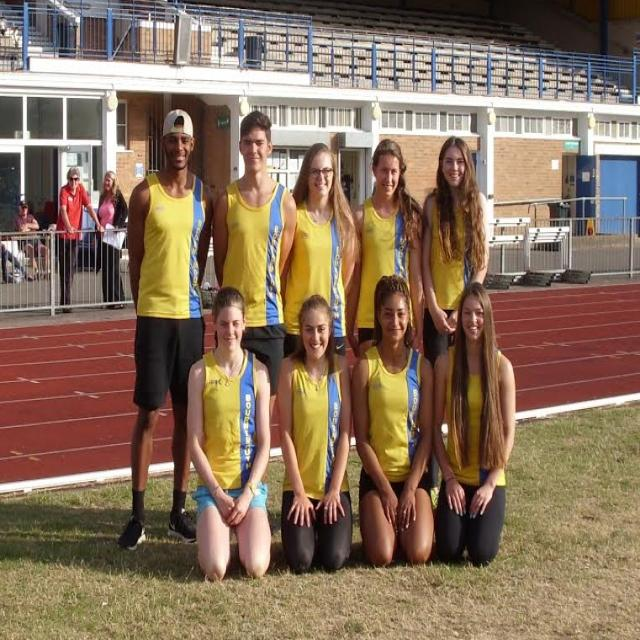body: (112, 102, 218, 556), (181, 279, 274, 585), (211, 110, 299, 430), (417, 132, 490, 511), (429, 277, 516, 570), (351, 273, 436, 566), (273, 292, 356, 581), (344, 135, 426, 364), (279, 141, 360, 362), (55, 162, 106, 314), (92, 166, 130, 311), (11, 198, 54, 282), (1, 237, 33, 285), (28, 192, 53, 226)
